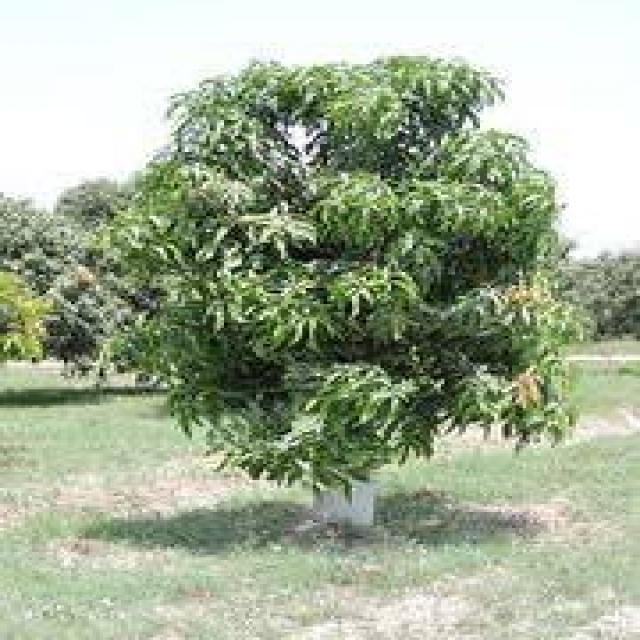Tree: (110, 55, 585, 541)
